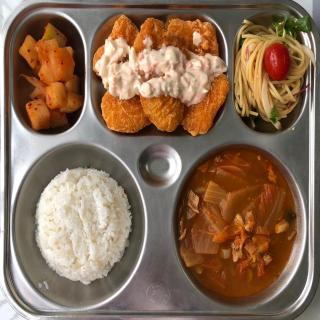Nasi: (35, 170, 131, 283)
